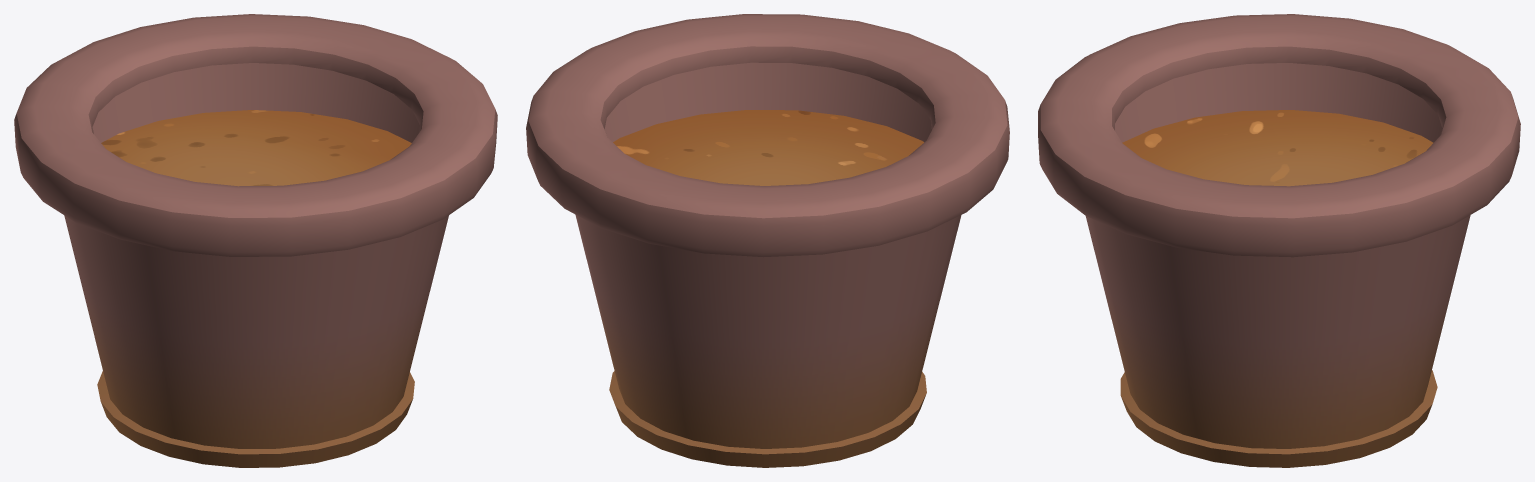
File: Pot.fbx
3 views of the same model, side by side, from view 1: azimuth 30°, elevation 25°; view 2: azimuth 150°, elevation 25°; view 3: azimuth 270°, elevation 25° (orthographic).
Visible parts, largest first — view 1: Pot; view 2: Pot; view 3: Pot.
Boxes of the visible parts, <box> form: Pot: <box>14,14,497,467</box>; Pot: <box>526,14,1009,467</box>; Pot: <box>1038,14,1520,467</box>.
Bounding box in the file's own units: 3.09 × 2.07 × 3.09.
1 material, 1 textured.
